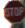Stop sign: (0, 0, 24, 27)
